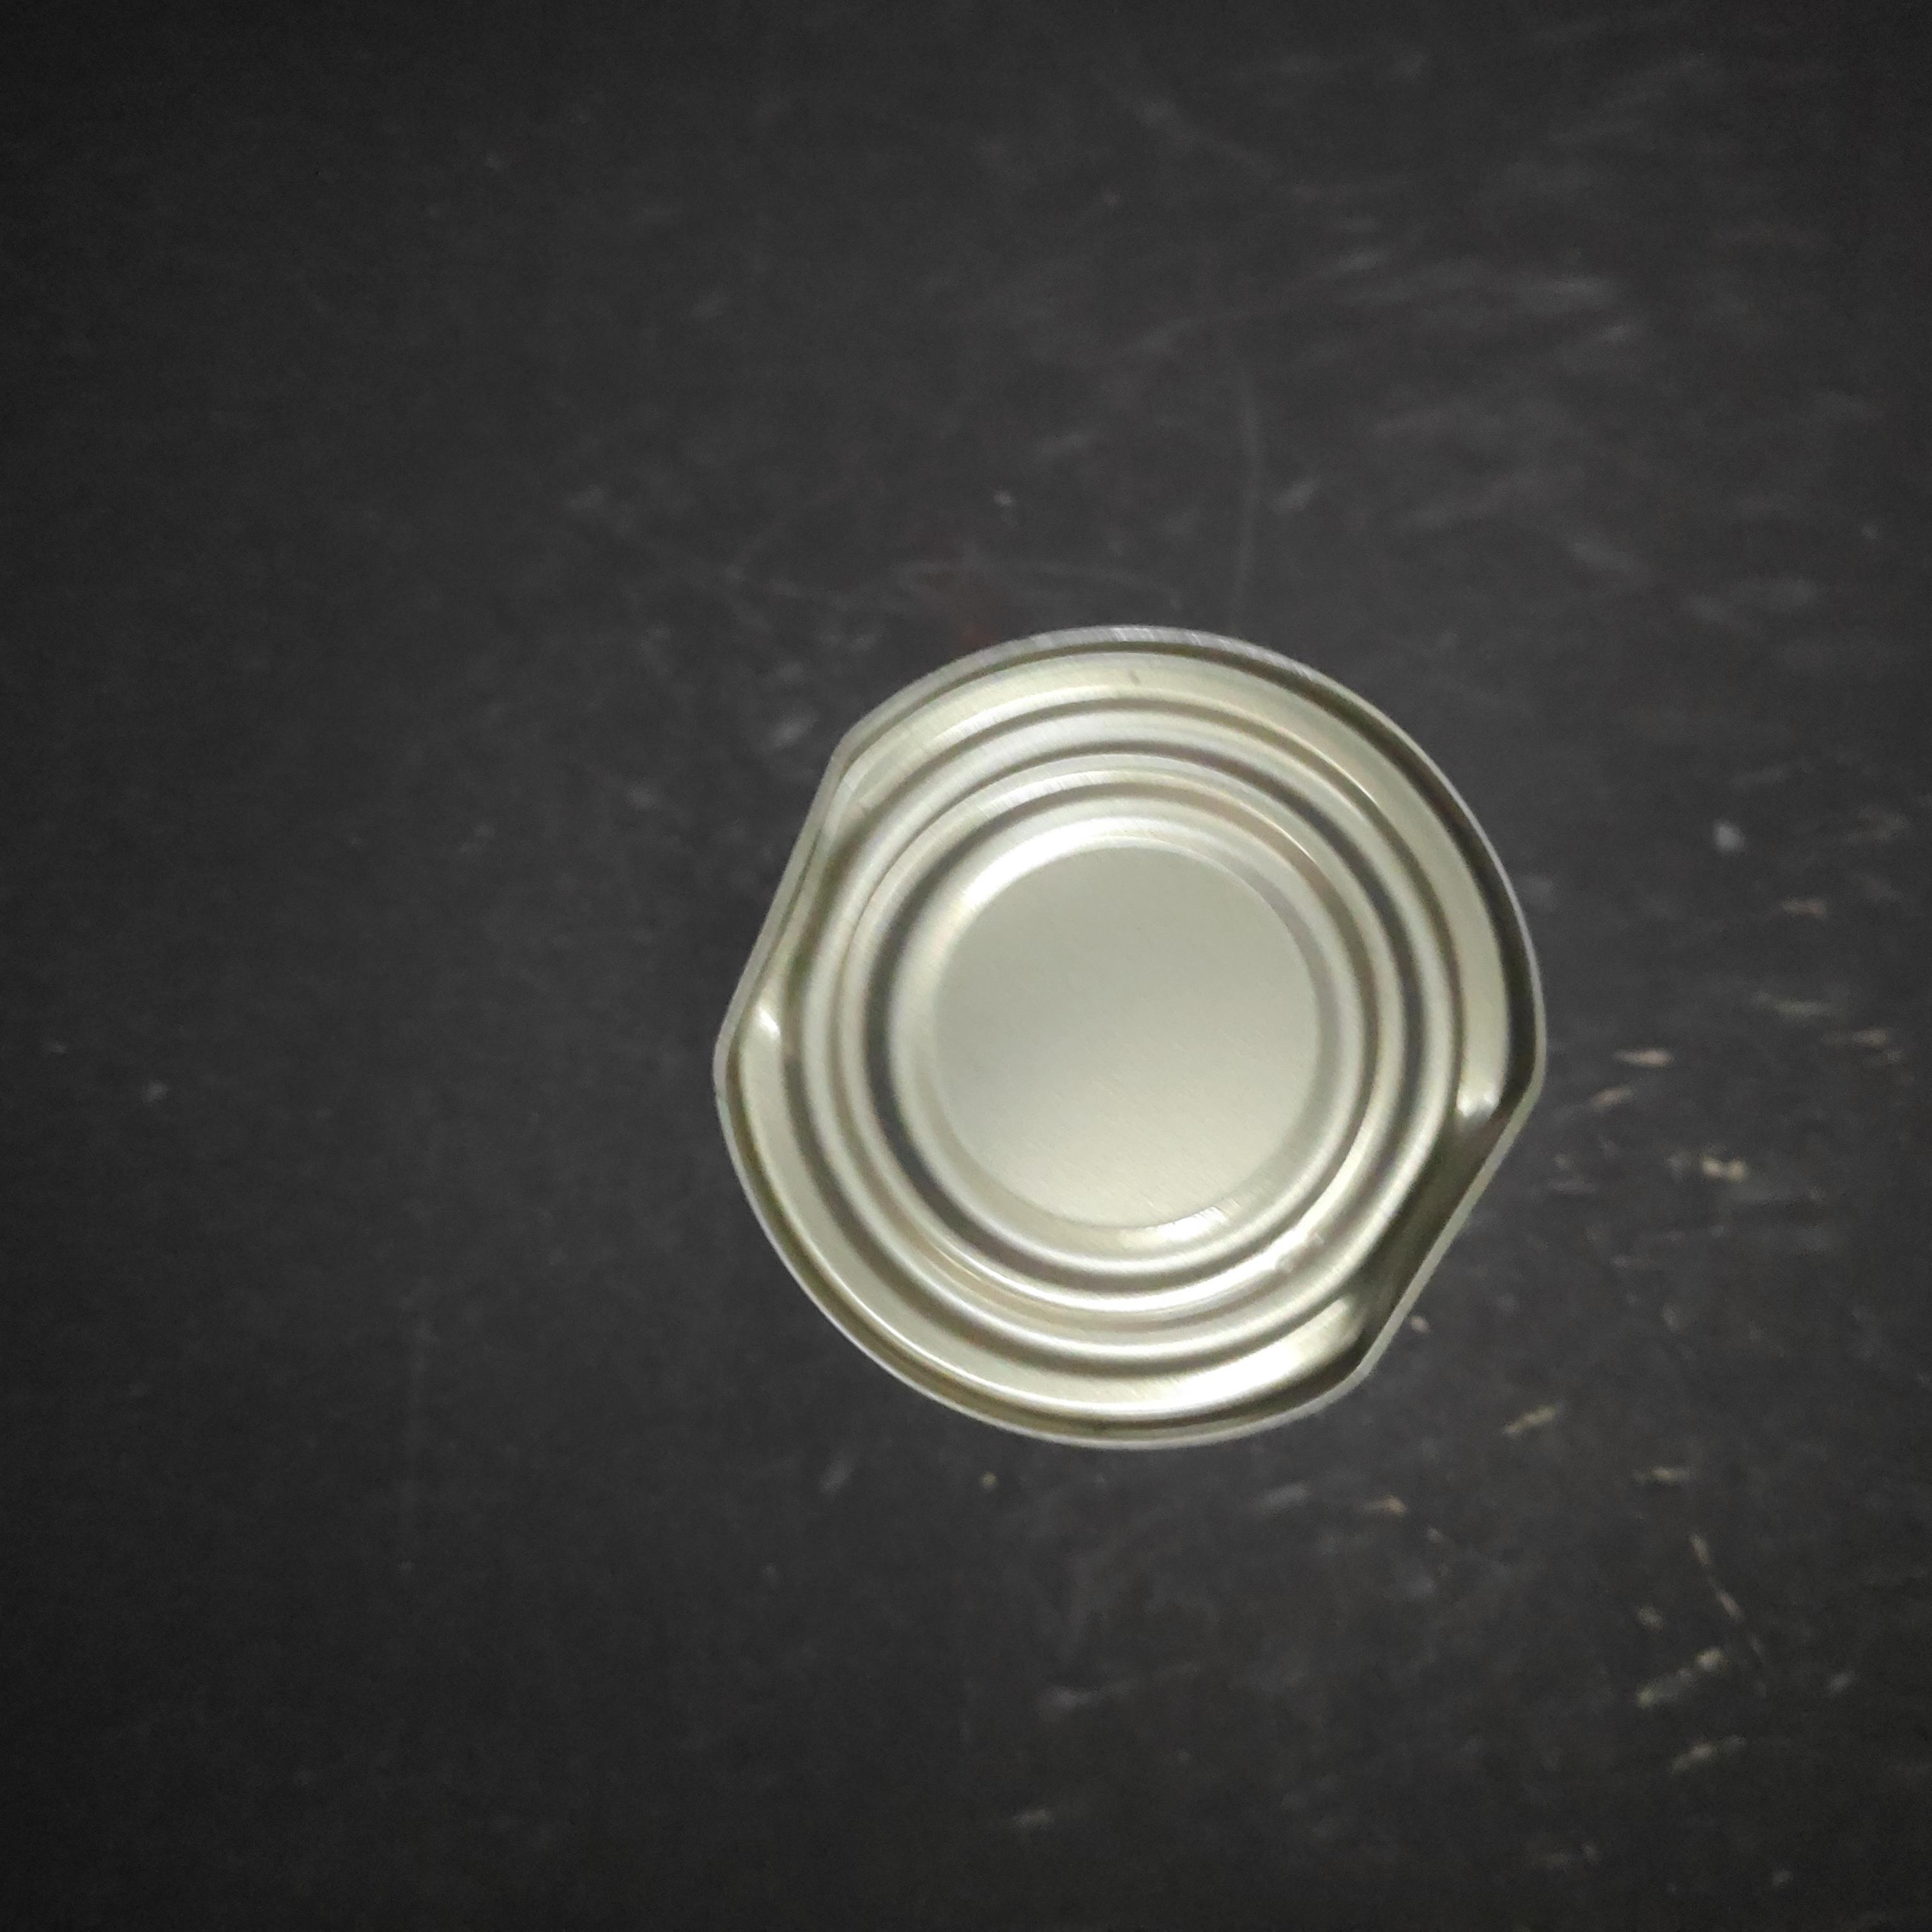Minor Defect: (694, 611, 1565, 1465)
